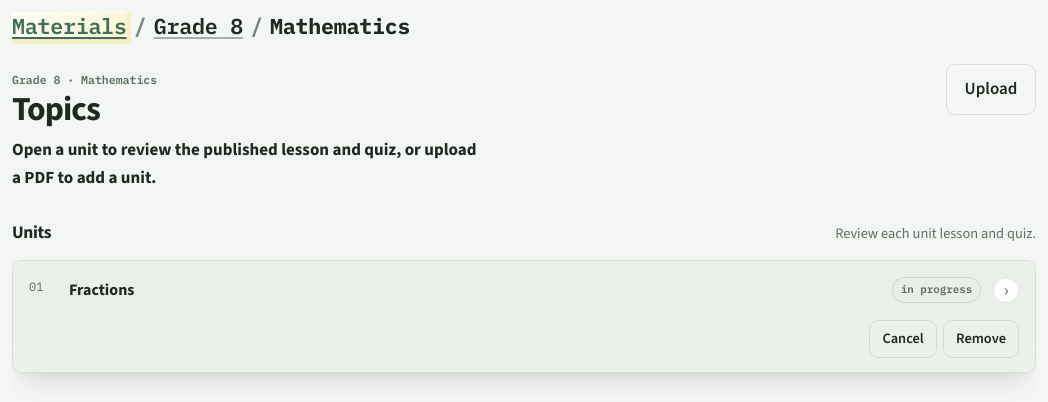
AdminMaterialsTopicsPage › cancels an in-progress run and retries the same PDF
Click the button "Cancel".
click(903, 339)  # box [869,320,937,358]
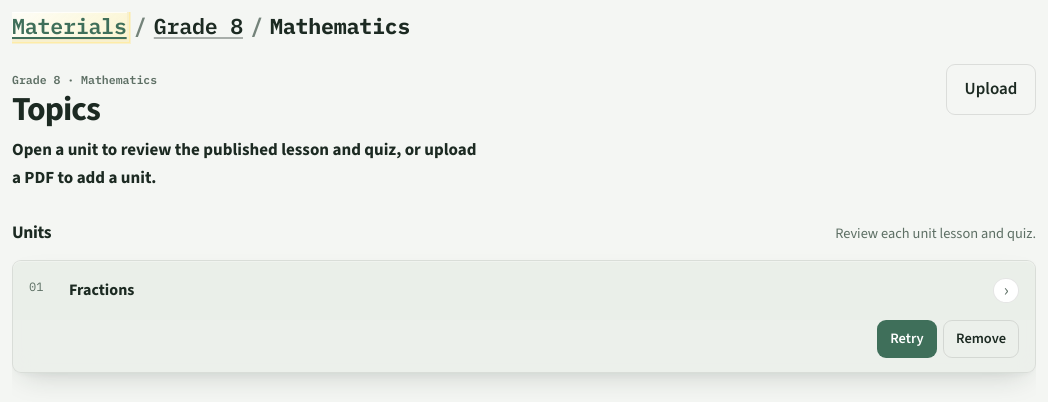
Click the button "Retry".
click(907, 339)  # box [877,320,937,358]
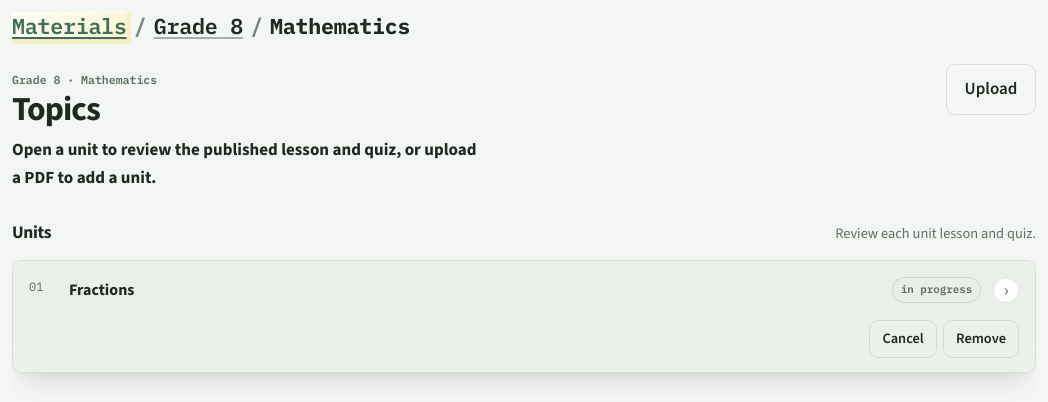
Result: the text "in progress" is shown at [892,278,981,303]
